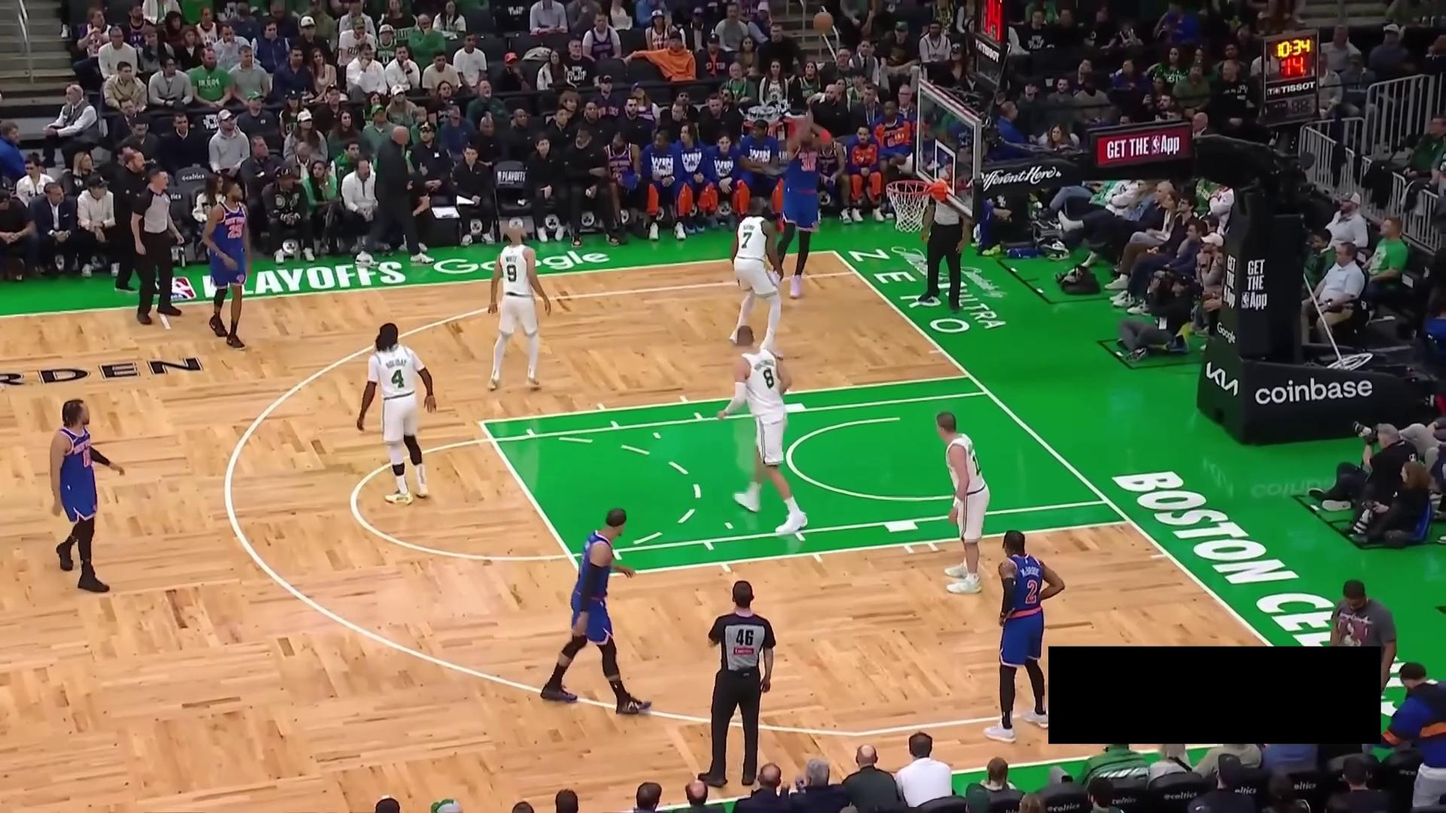ball: (811, 9, 835, 34)
number: (761, 368, 777, 391), (1025, 577, 1039, 601), (392, 368, 405, 389), (505, 263, 518, 282), (740, 231, 753, 249), (228, 222, 241, 239), (801, 157, 813, 173)
player: (539, 506, 652, 716), (717, 329, 807, 537), (984, 528, 1067, 744), (356, 322, 436, 505), (52, 398, 126, 594), (486, 218, 551, 392), (775, 109, 831, 301), (728, 188, 787, 355), (937, 411, 990, 596), (200, 176, 253, 350)
referee: (703, 579, 779, 790), (132, 169, 184, 326), (919, 188, 970, 312)
rim: (886, 179, 933, 196)
